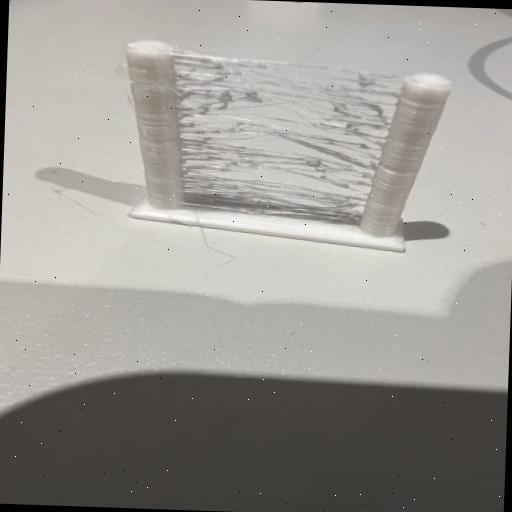stringing: (176, 50, 398, 222)
